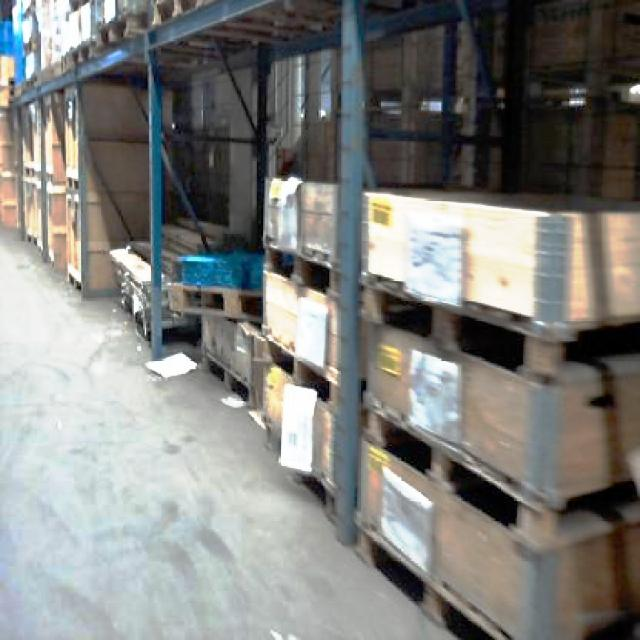ground: (0, 205, 491, 638)
pallet: (165, 174, 638, 638), (23, 91, 160, 317), (25, 0, 264, 90), (0, 51, 17, 228)
